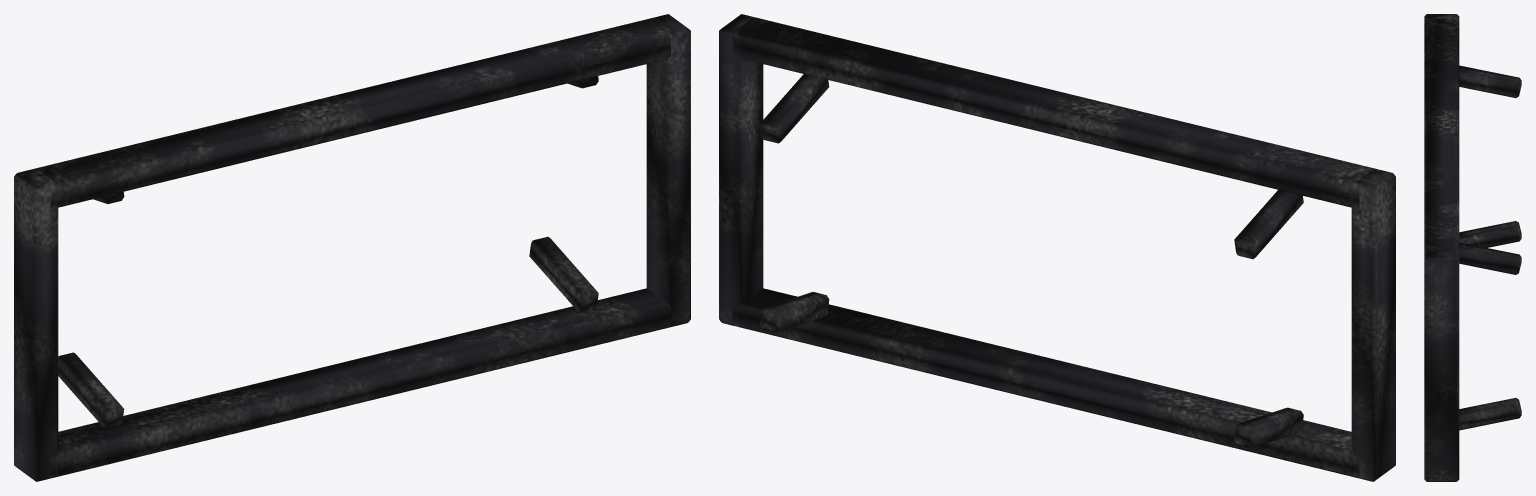
Rendered from Letrero_Bar.fbx.
The picture shows the model from 3 angles, left to right: view 1: azimuth 30°, elevation 25°; view 2: azimuth 150°, elevation 25°; view 3: azimuth 270°, elevation 25°; orthographic projection. The views are drawn at different scales.
Visible parts, largest first — view 1: Letrero_Bar; view 2: Letrero_Bar; view 3: Letrero_Bar.
Part boxes in pixels (box(x1,y1,x2,y2)): Letrero_Bar: box(14, 14, 690, 481); Letrero_Bar: box(719, 14, 1395, 481); Letrero_Bar: box(1424, 14, 1521, 481).
Size of the model in its own units: 6.65 by 2.85 by 1.12.
